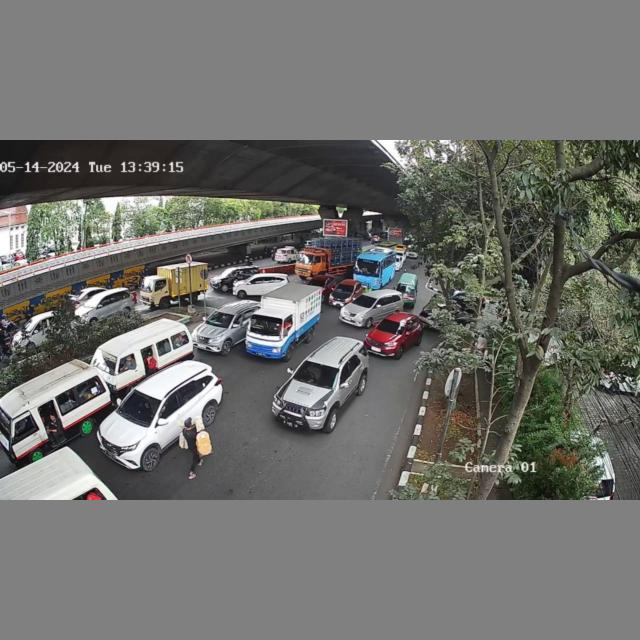windshield: (117, 389, 165, 422), (295, 361, 340, 387), (247, 315, 289, 336), (92, 348, 119, 377), (205, 309, 232, 330), (375, 317, 406, 335), (350, 294, 375, 307)
